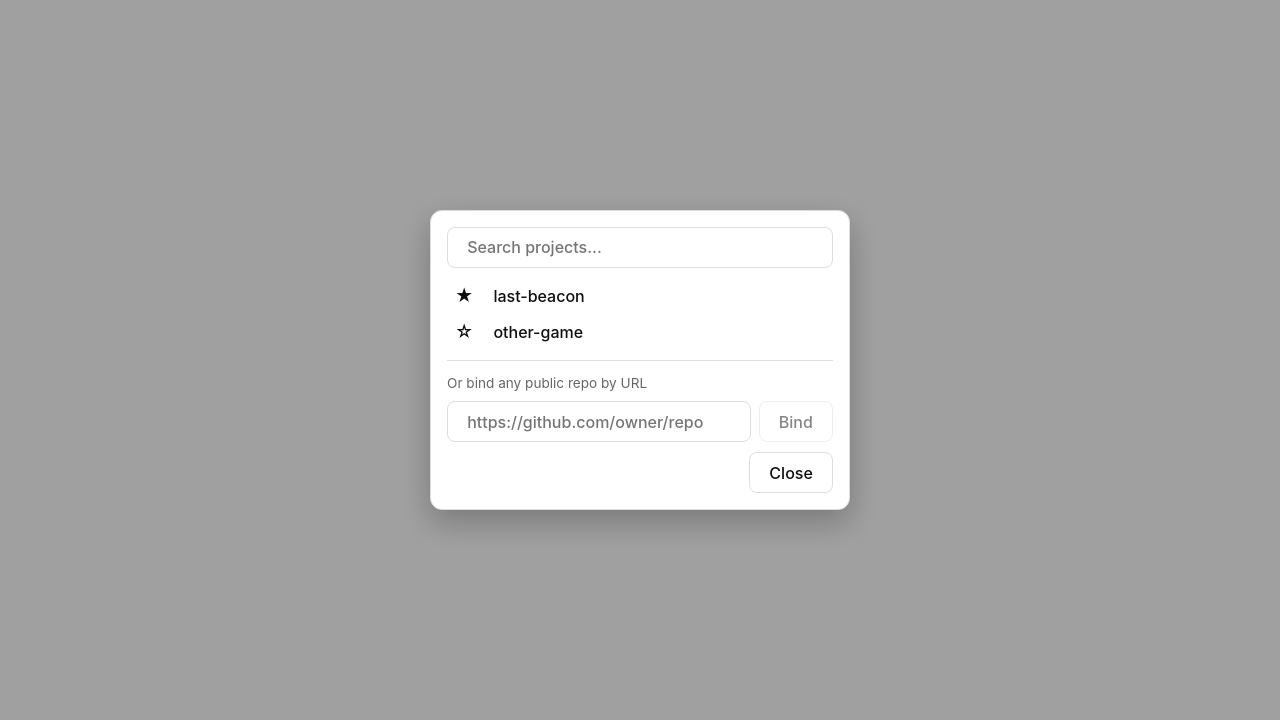
Test case: BindProjectPopup › shows the error when binding by URL fails
Type "https://github.com/someone/nothing" into the field labelled "Or bind any public repo by URL".
click(599, 422); type("https://github.com/someone/nothing")  # box [447,401,751,442]
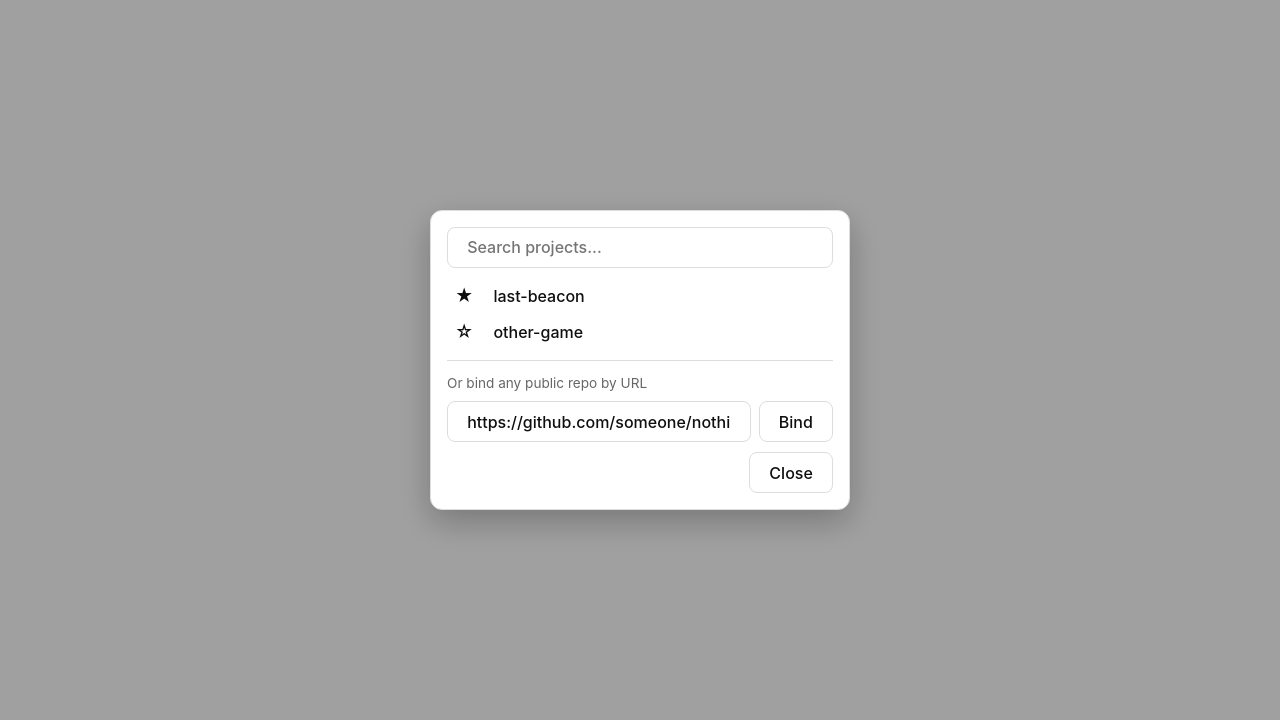
Click the button "Bind".
click(796, 422)  # box [759,401,833,442]
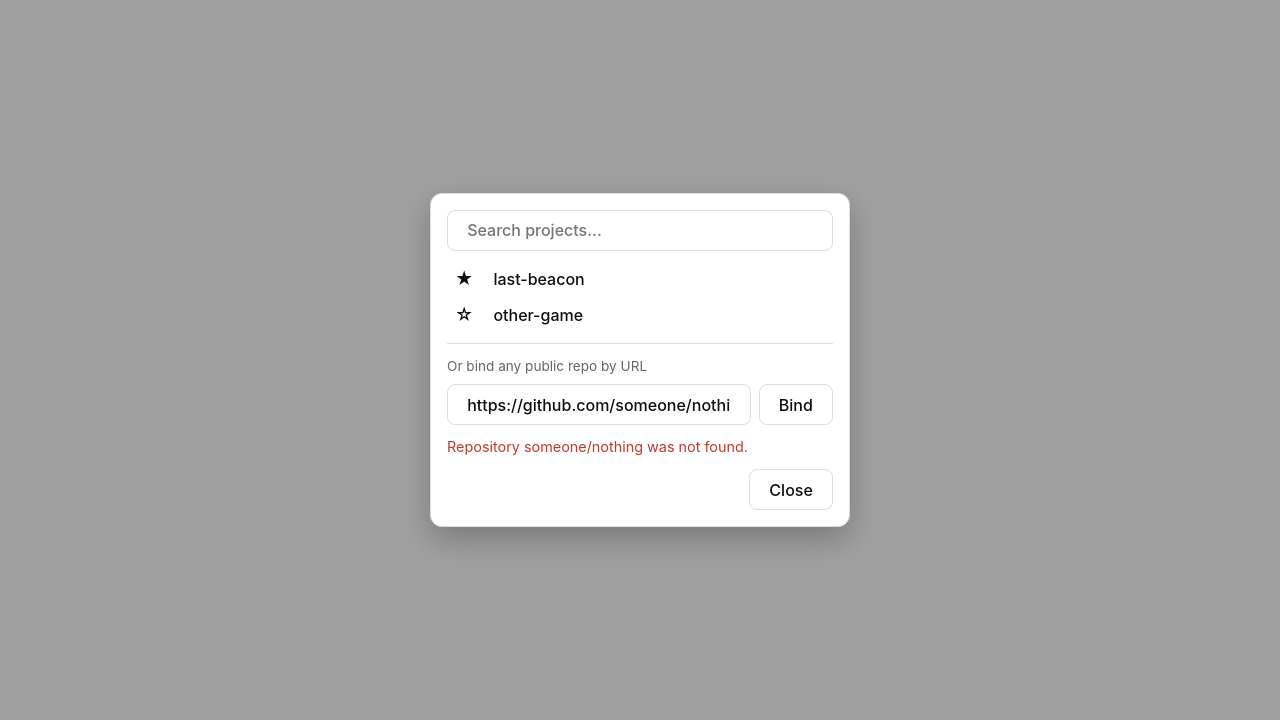
Expected: the message reads "Repository someone/nothing was not found.", [447,438,748,455]
